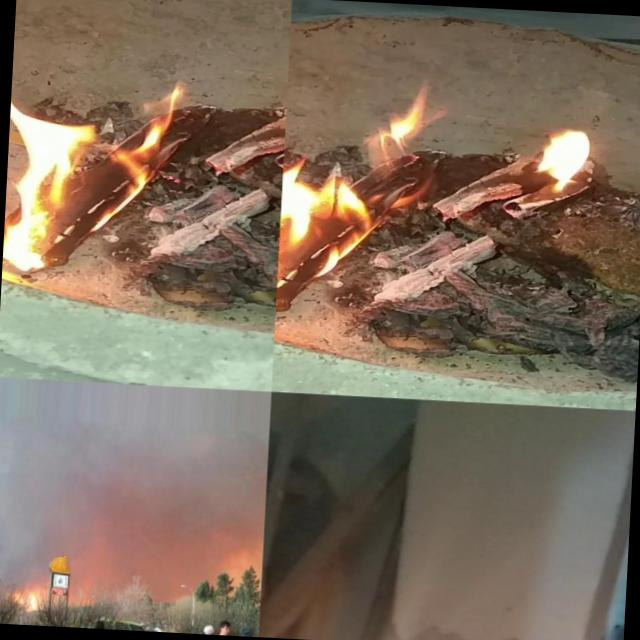fire: (274, 70, 438, 338), (2, 51, 188, 286), (518, 97, 610, 203), (24, 584, 40, 614)
